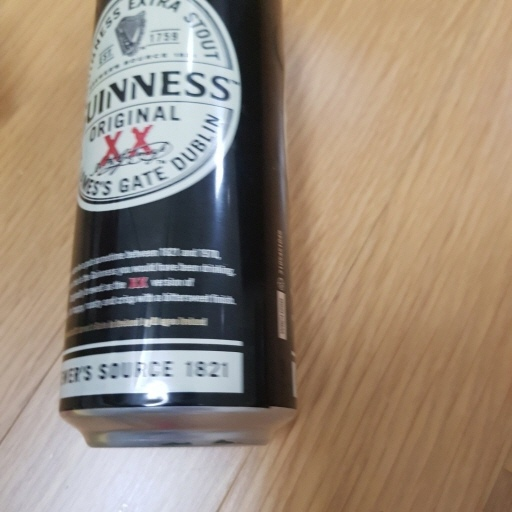Metal_0: (63, 1, 300, 449)
